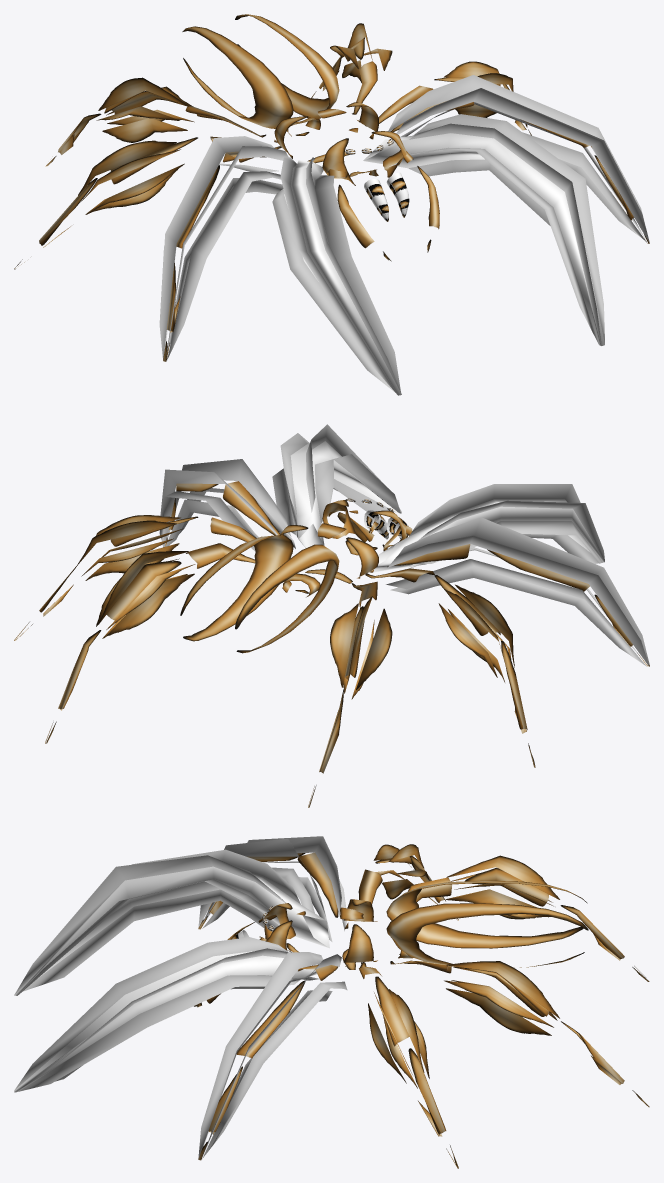
File: Only_Spider_-_No_Animation_-_One_Mesh-(FBX 6.1 ASCII mit Animation).fbx
The picture shows the model from 3 angles, top to bottom: view 1: azimuth 30°, elevation 25°; view 2: azimuth 150°, elevation 25°; view 3: azimuth 270°, elevation 25°; orthographic projection. The views are drawn at different scales.
Parts seen in each view (by area): view 1: Only_Spider_-_No_Animation_-_One_Mesh; view 2: Only_Spider_-_No_Animation_-_One_Mesh; view 3: Only_Spider_-_No_Animation_-_One_Mesh.
Part boxes in pixels (x1=…): Only_Spider_-_No_Animation_-_One_Mesh: x1=14, y1=14, x2=649, y2=395; Only_Spider_-_No_Animation_-_One_Mesh: x1=14, y1=424, x2=649, y2=807; Only_Spider_-_No_Animation_-_One_Mesh: x1=14, y1=836, x2=649, y2=1168.
Bounding box in the file's own units: 9.2 × 2.65 × 9.93.
